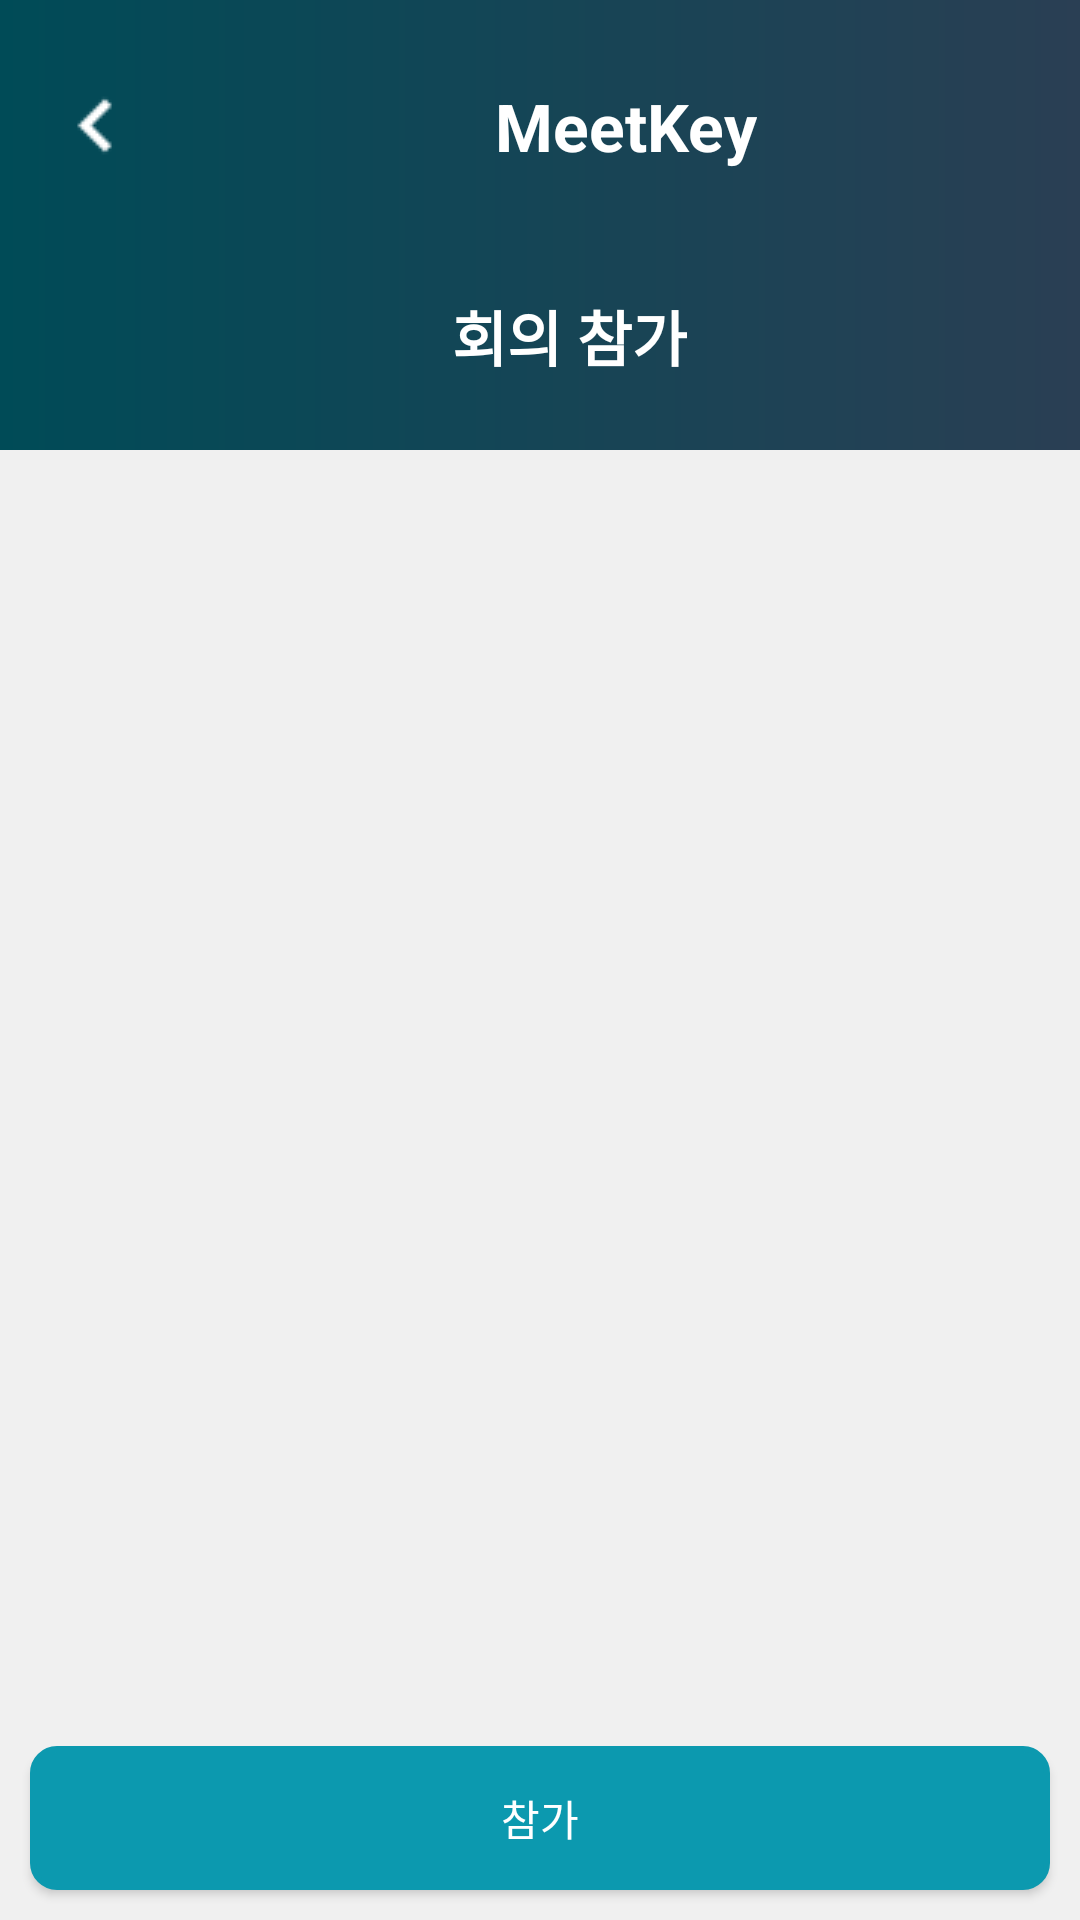

Icons on this 1080px×1920px Android screen, each with the point to tap as point (x, y):
back: point (94, 125)
